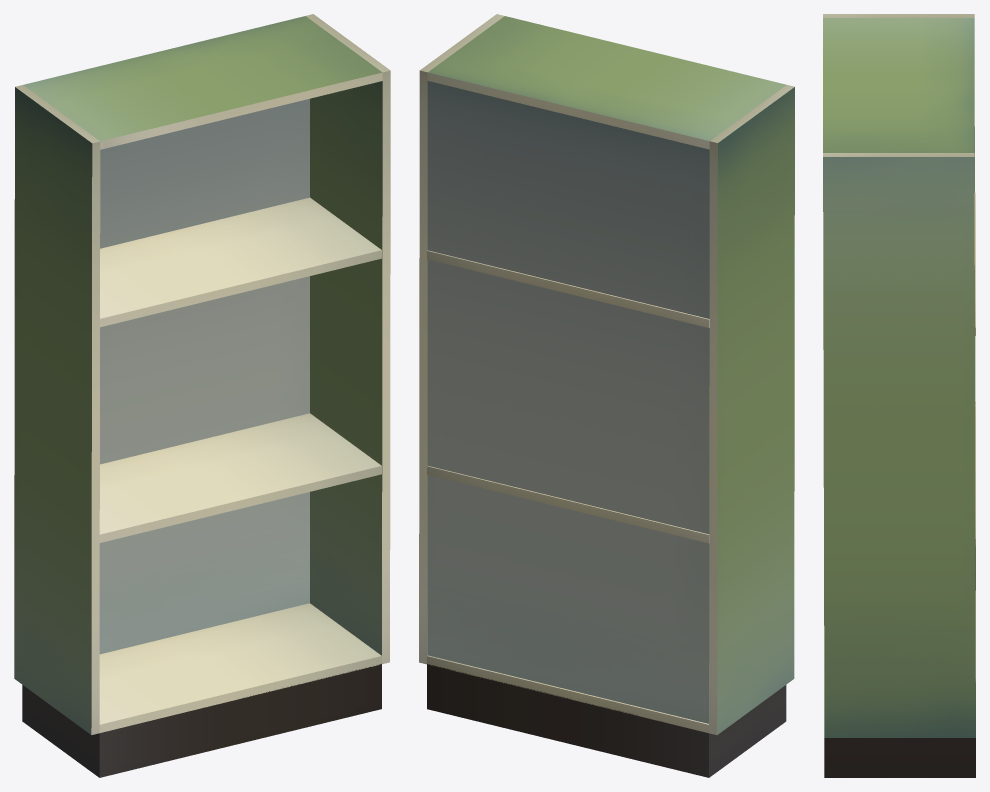
The model's file is cabin02abb.fbx.
3 views of the same model, side by side, from view 1: azimuth 30°, elevation 25°; view 2: azimuth 150°, elevation 25°; view 3: azimuth 270°, elevation 25° (orthographic).
Parts seen in each view (by area): view 1: cabin02abb; view 2: cabin02abb; view 3: cabin02abb.
Boxes of the visible parts, <box> form: cabin02abb: <box>14,14,390,777</box>; cabin02abb: <box>419,14,794,777</box>; cabin02abb: <box>823,14,975,777</box>.
Size of the model in its own units: 0.7397 by 1.51 by 0.3345.
